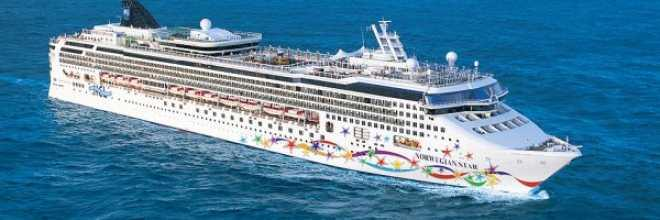youlun: (47, 1, 584, 200)
